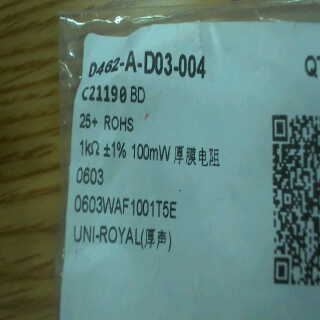1kR: (78, 135, 103, 161)
